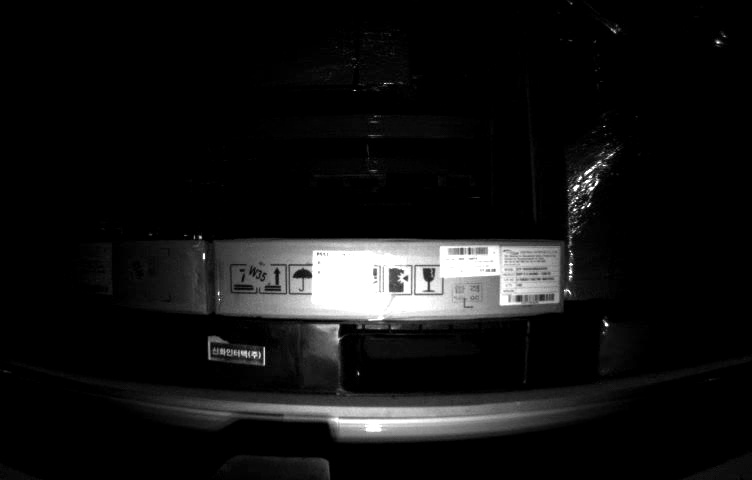True Barcode: (310, 252, 372, 307)
